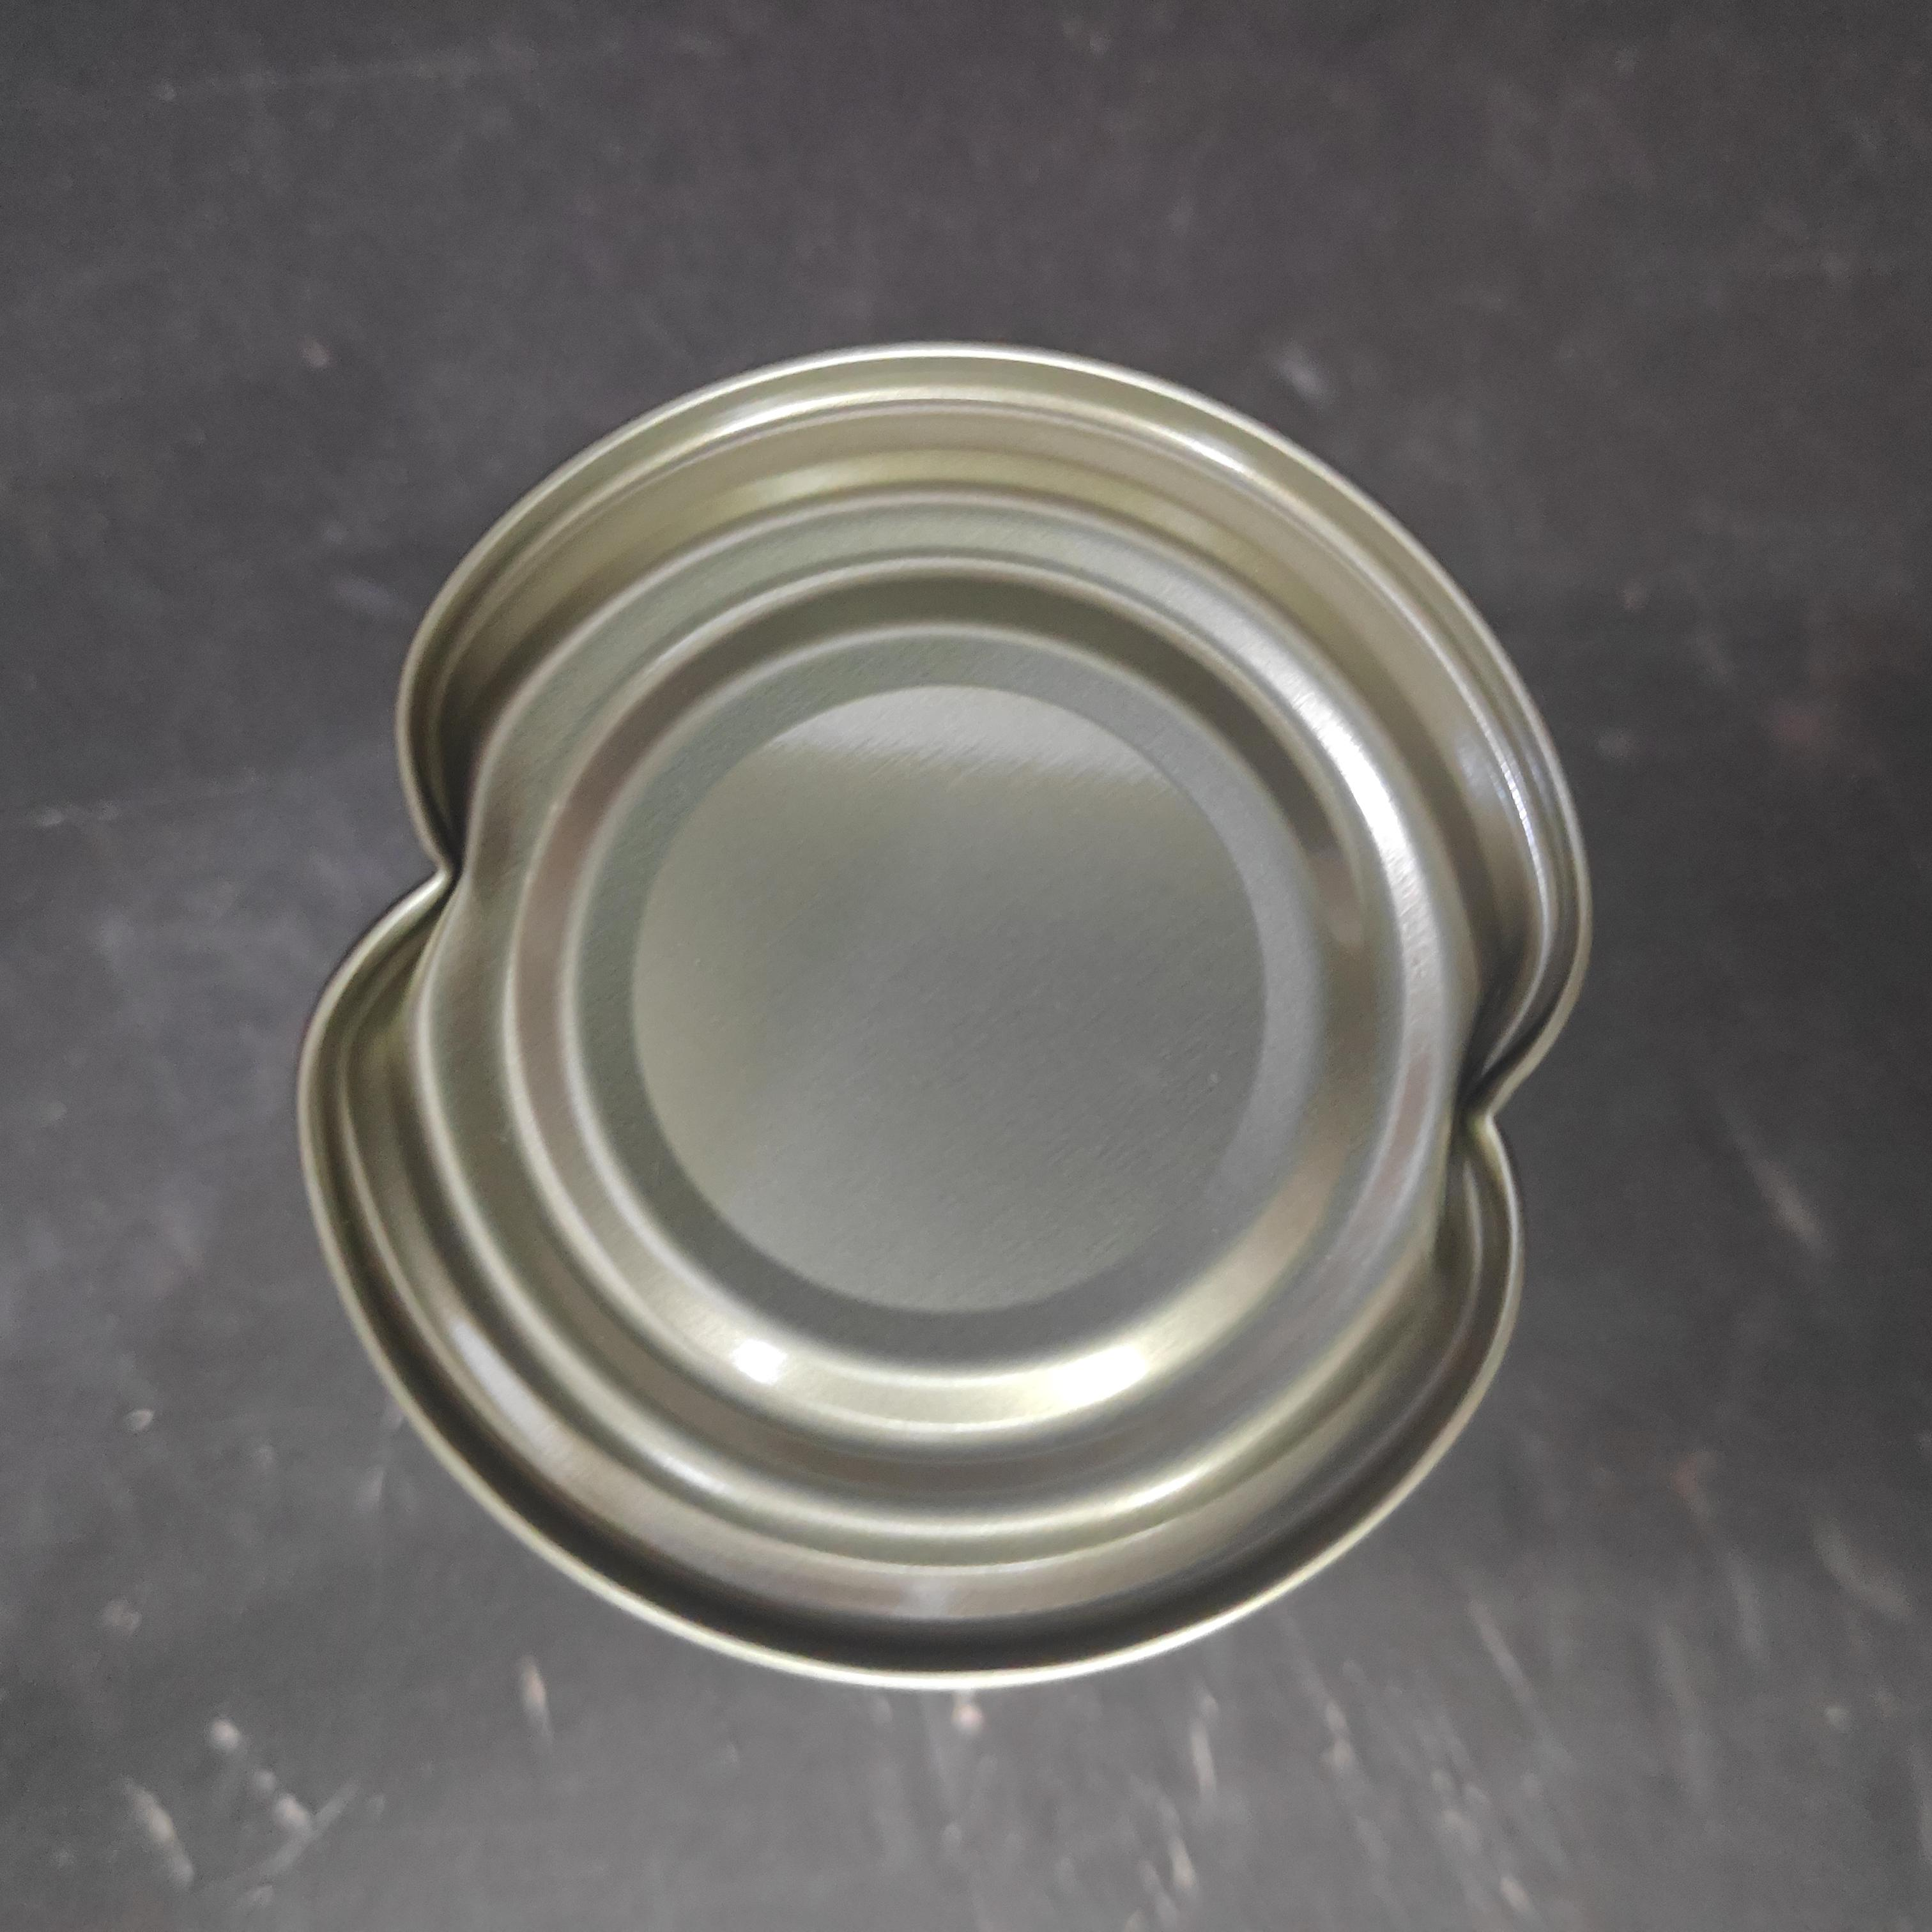Critical Defect: (285, 324, 1608, 1707)
